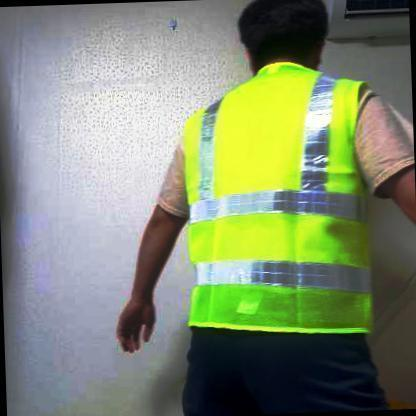no-helmet: (234, 0, 327, 68)
vest: (175, 54, 388, 349)
